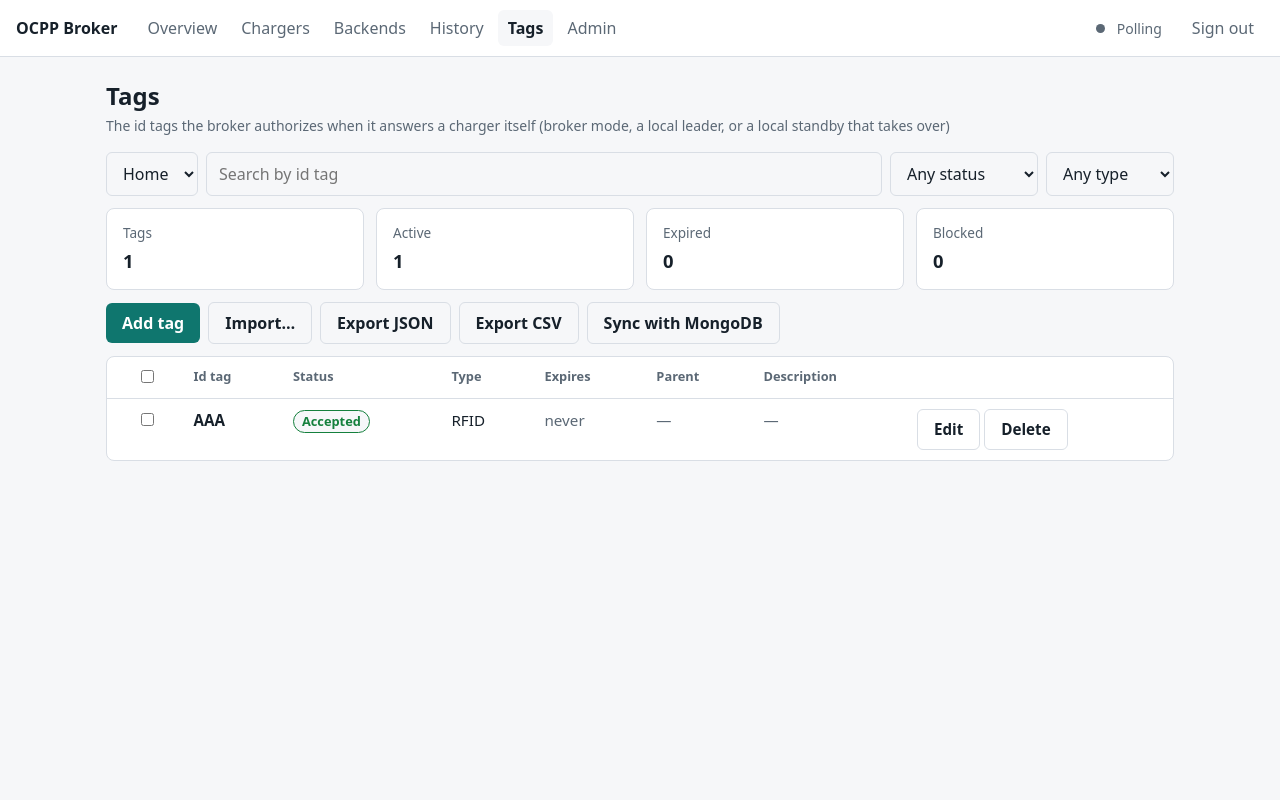
Test case: deleting and bulk changes › asks before deleting one tag, and does nothing if the answer is no
Check: the heading "Tags" is shown, box x1=106 y1=79 x2=160 y2=112
What coordinates should you click on to do the following:
click the button with aria-label "Delete AAA"
I would click on:
 (1026, 430)
Its box is x1=984 y1=409 x2=1068 y2=450.
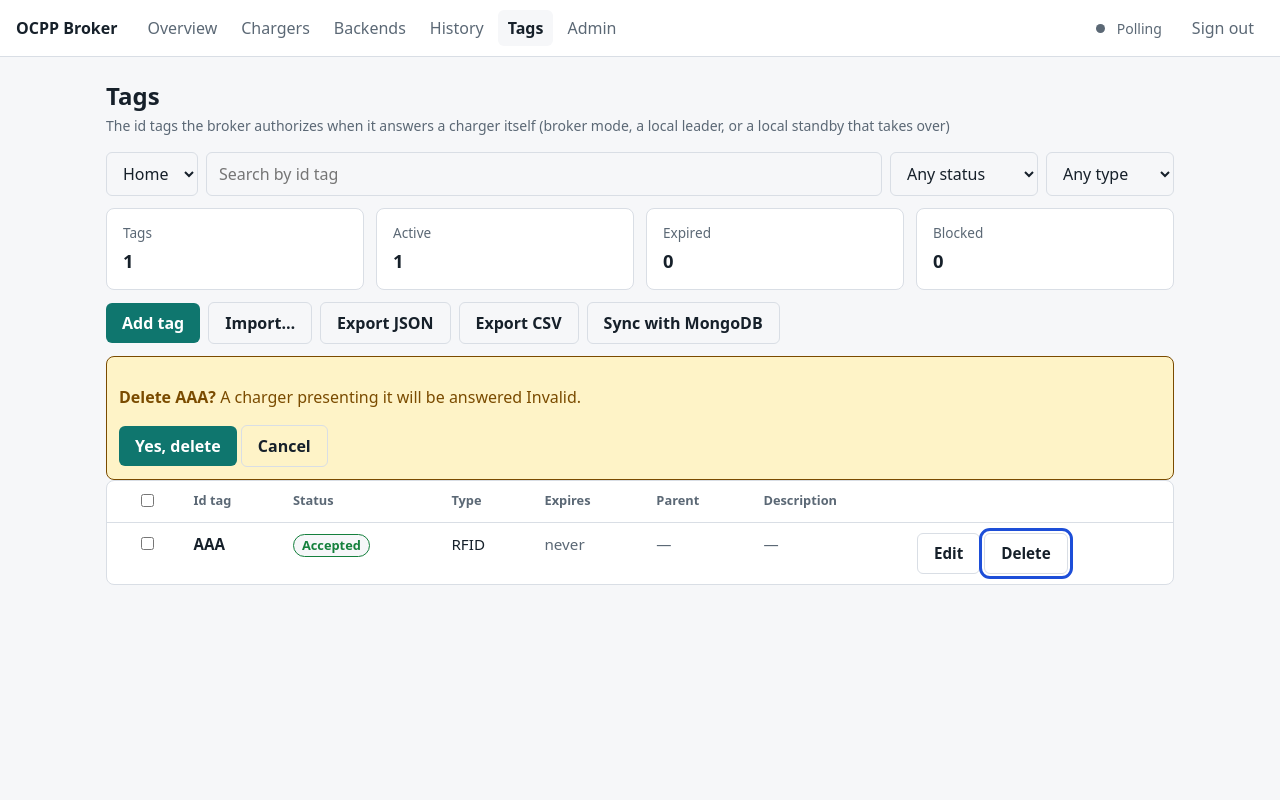
Check: the dialog named "Confirm delete" shows "Delete AAA?", box x1=106 y1=356 x2=1174 y2=480
What coordinates should you click on to do the following:
click the button "Cancel"
I would click on:
 (284, 446)
Its box is x1=241 y1=425 x2=328 y2=467.
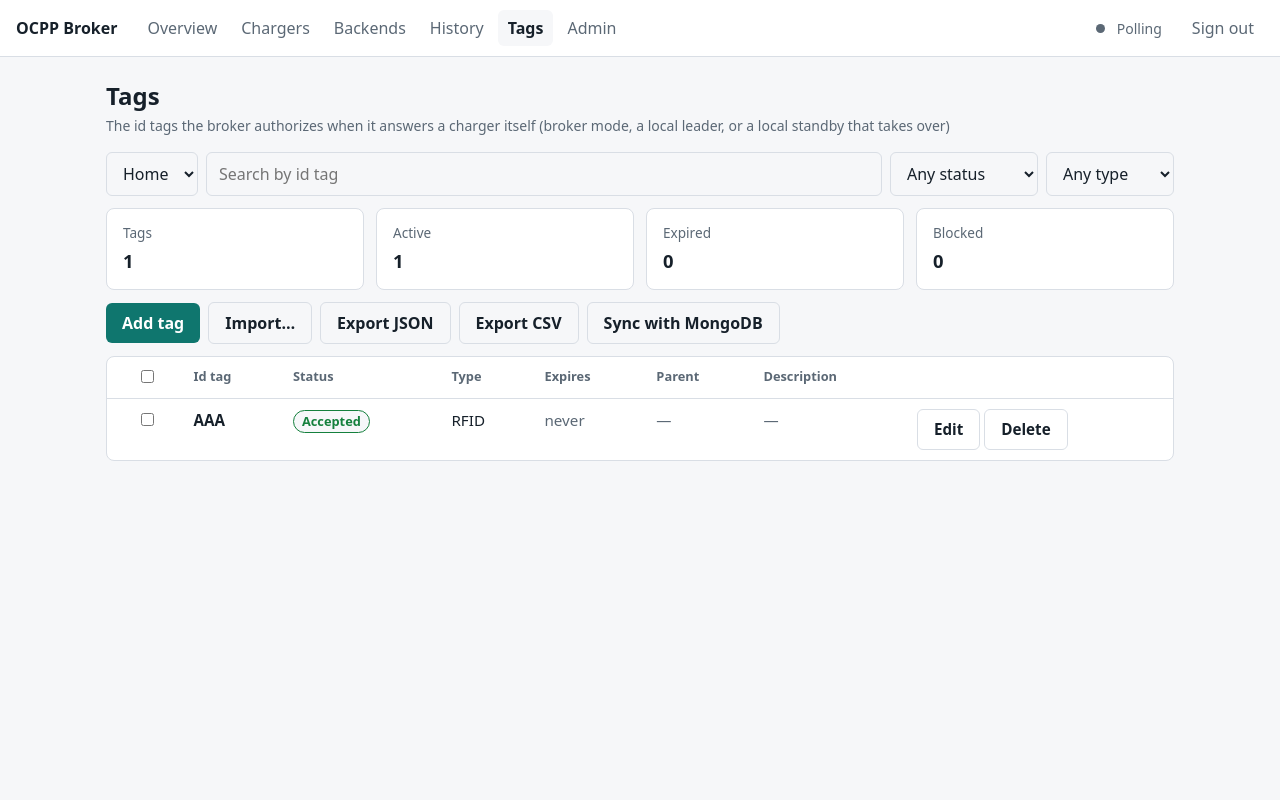
Check: the dialog is gone
What coordinates should you click on to do the following:
click the button with aria-label "Delete AAA"
I would click on:
 (1026, 430)
Its box is x1=984 y1=409 x2=1068 y2=450.
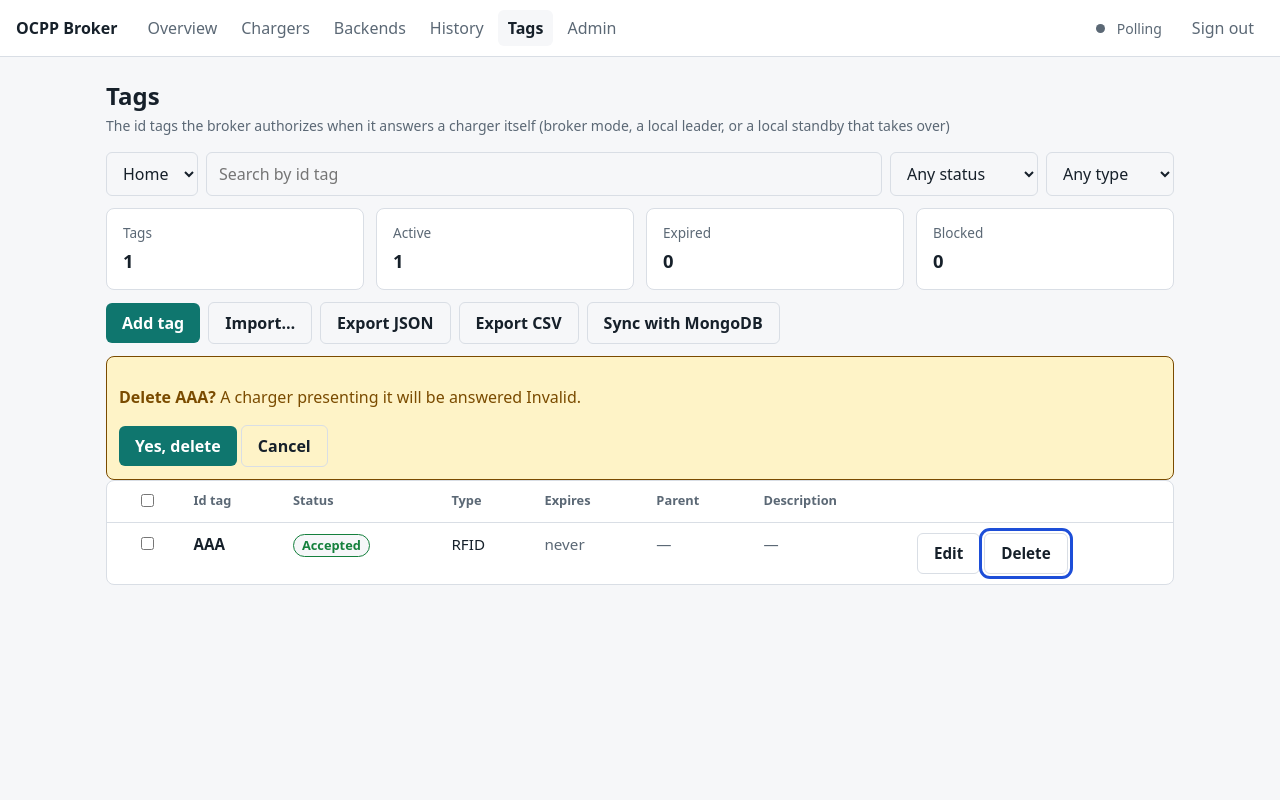
What coordinates should you click on to do the following:
click the button "Yes, delete"
I would click on:
 (178, 446)
Its box is x1=119 y1=426 x2=237 y2=466.
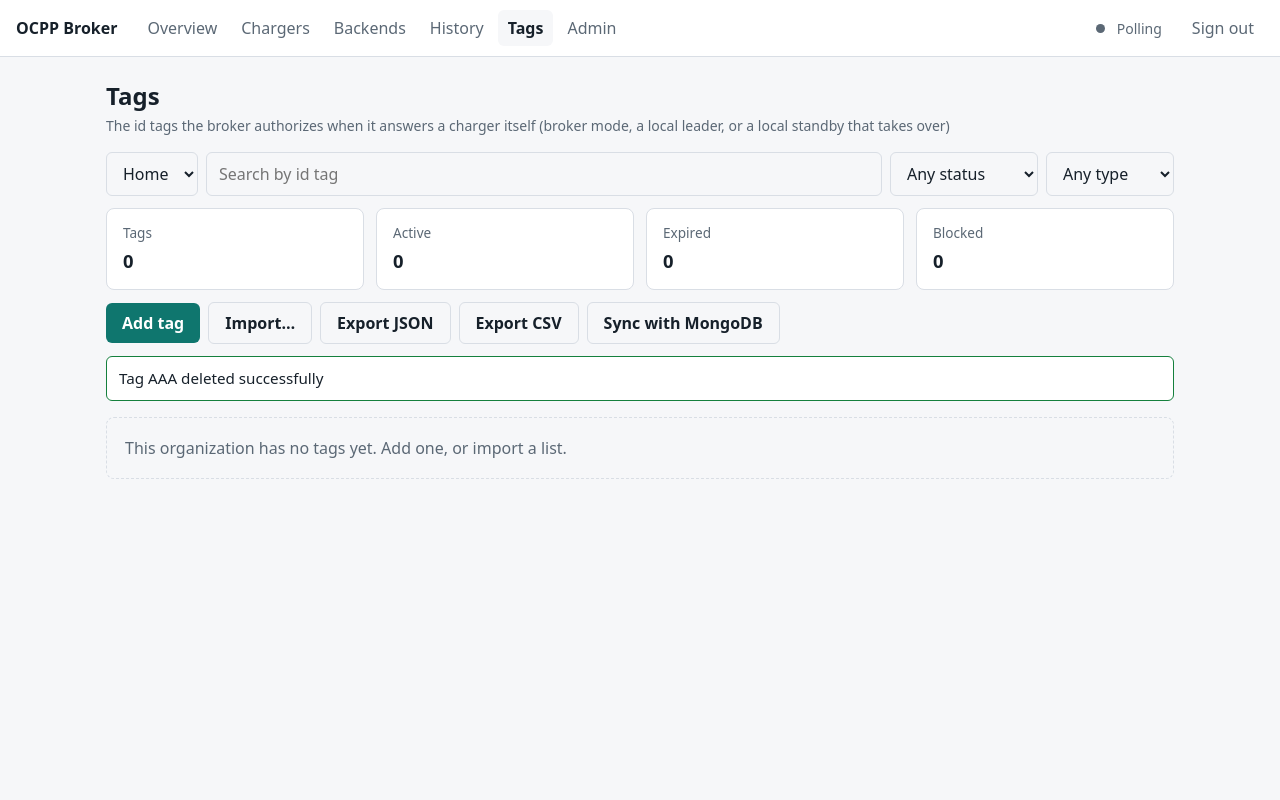
Check: the text "Tag AAA deleted successfully" is shown, box x1=106 y1=356 x2=1174 y2=401
